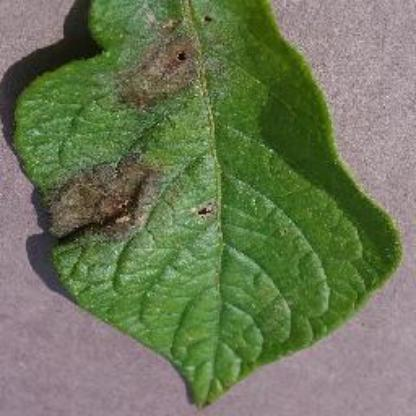Late-Blight: (0, 0, 402, 392)
